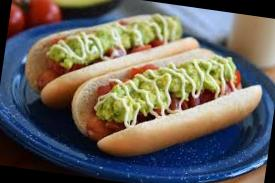Completos: (93, 34, 254, 178), (28, 0, 193, 126)
